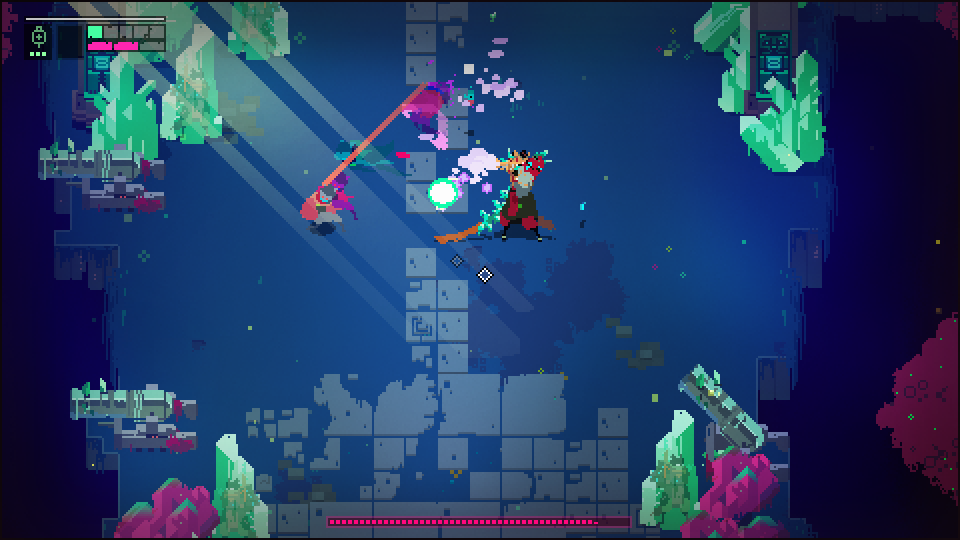hanged_man: (473, 145, 556, 246)
hanged_shot: (427, 176, 461, 212)
player: (299, 184, 343, 235)
